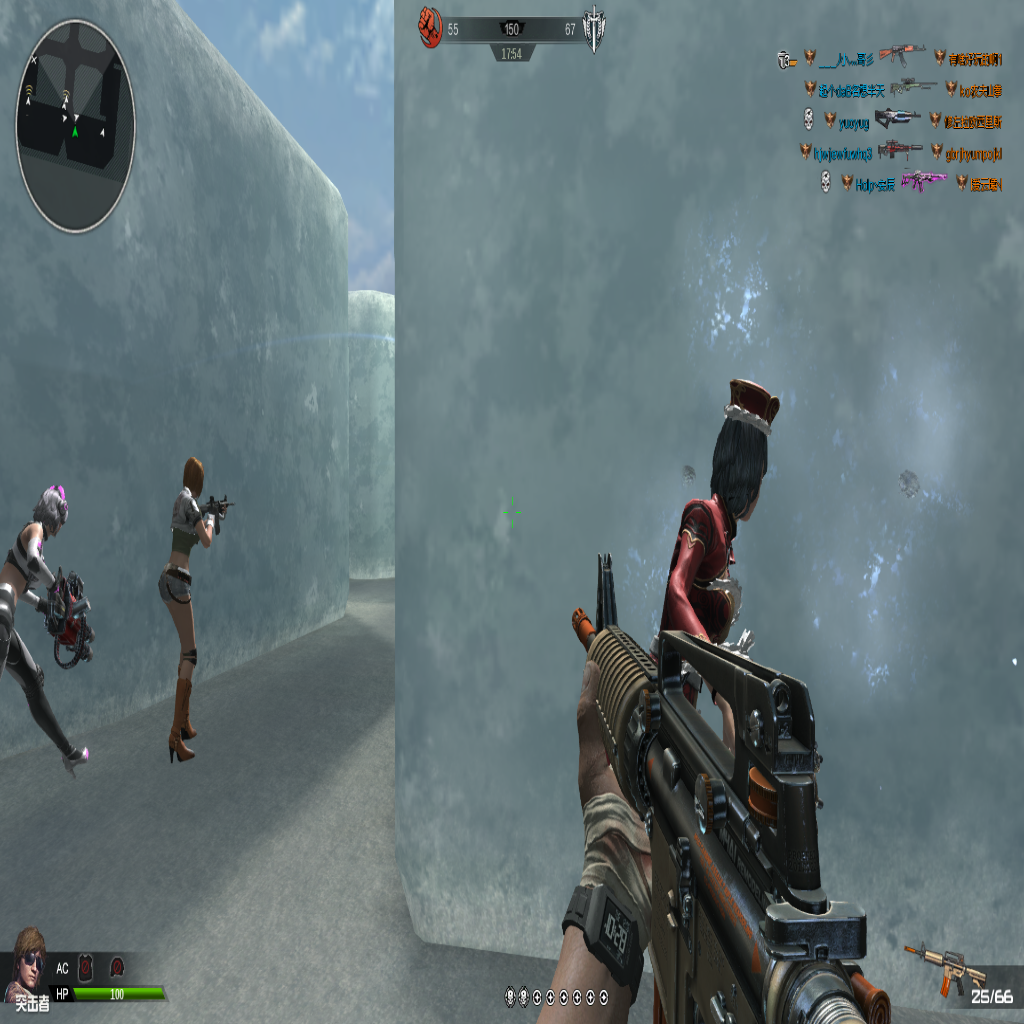tt: (653, 382, 783, 701), (1, 479, 93, 809), (159, 460, 220, 769)
